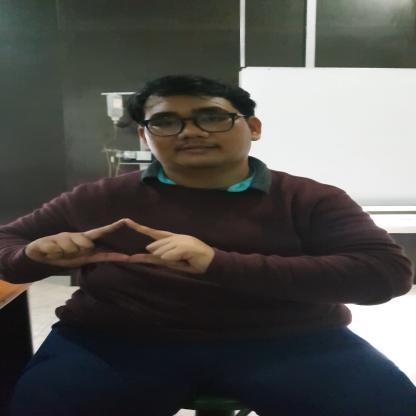A: (29, 218, 216, 274)
